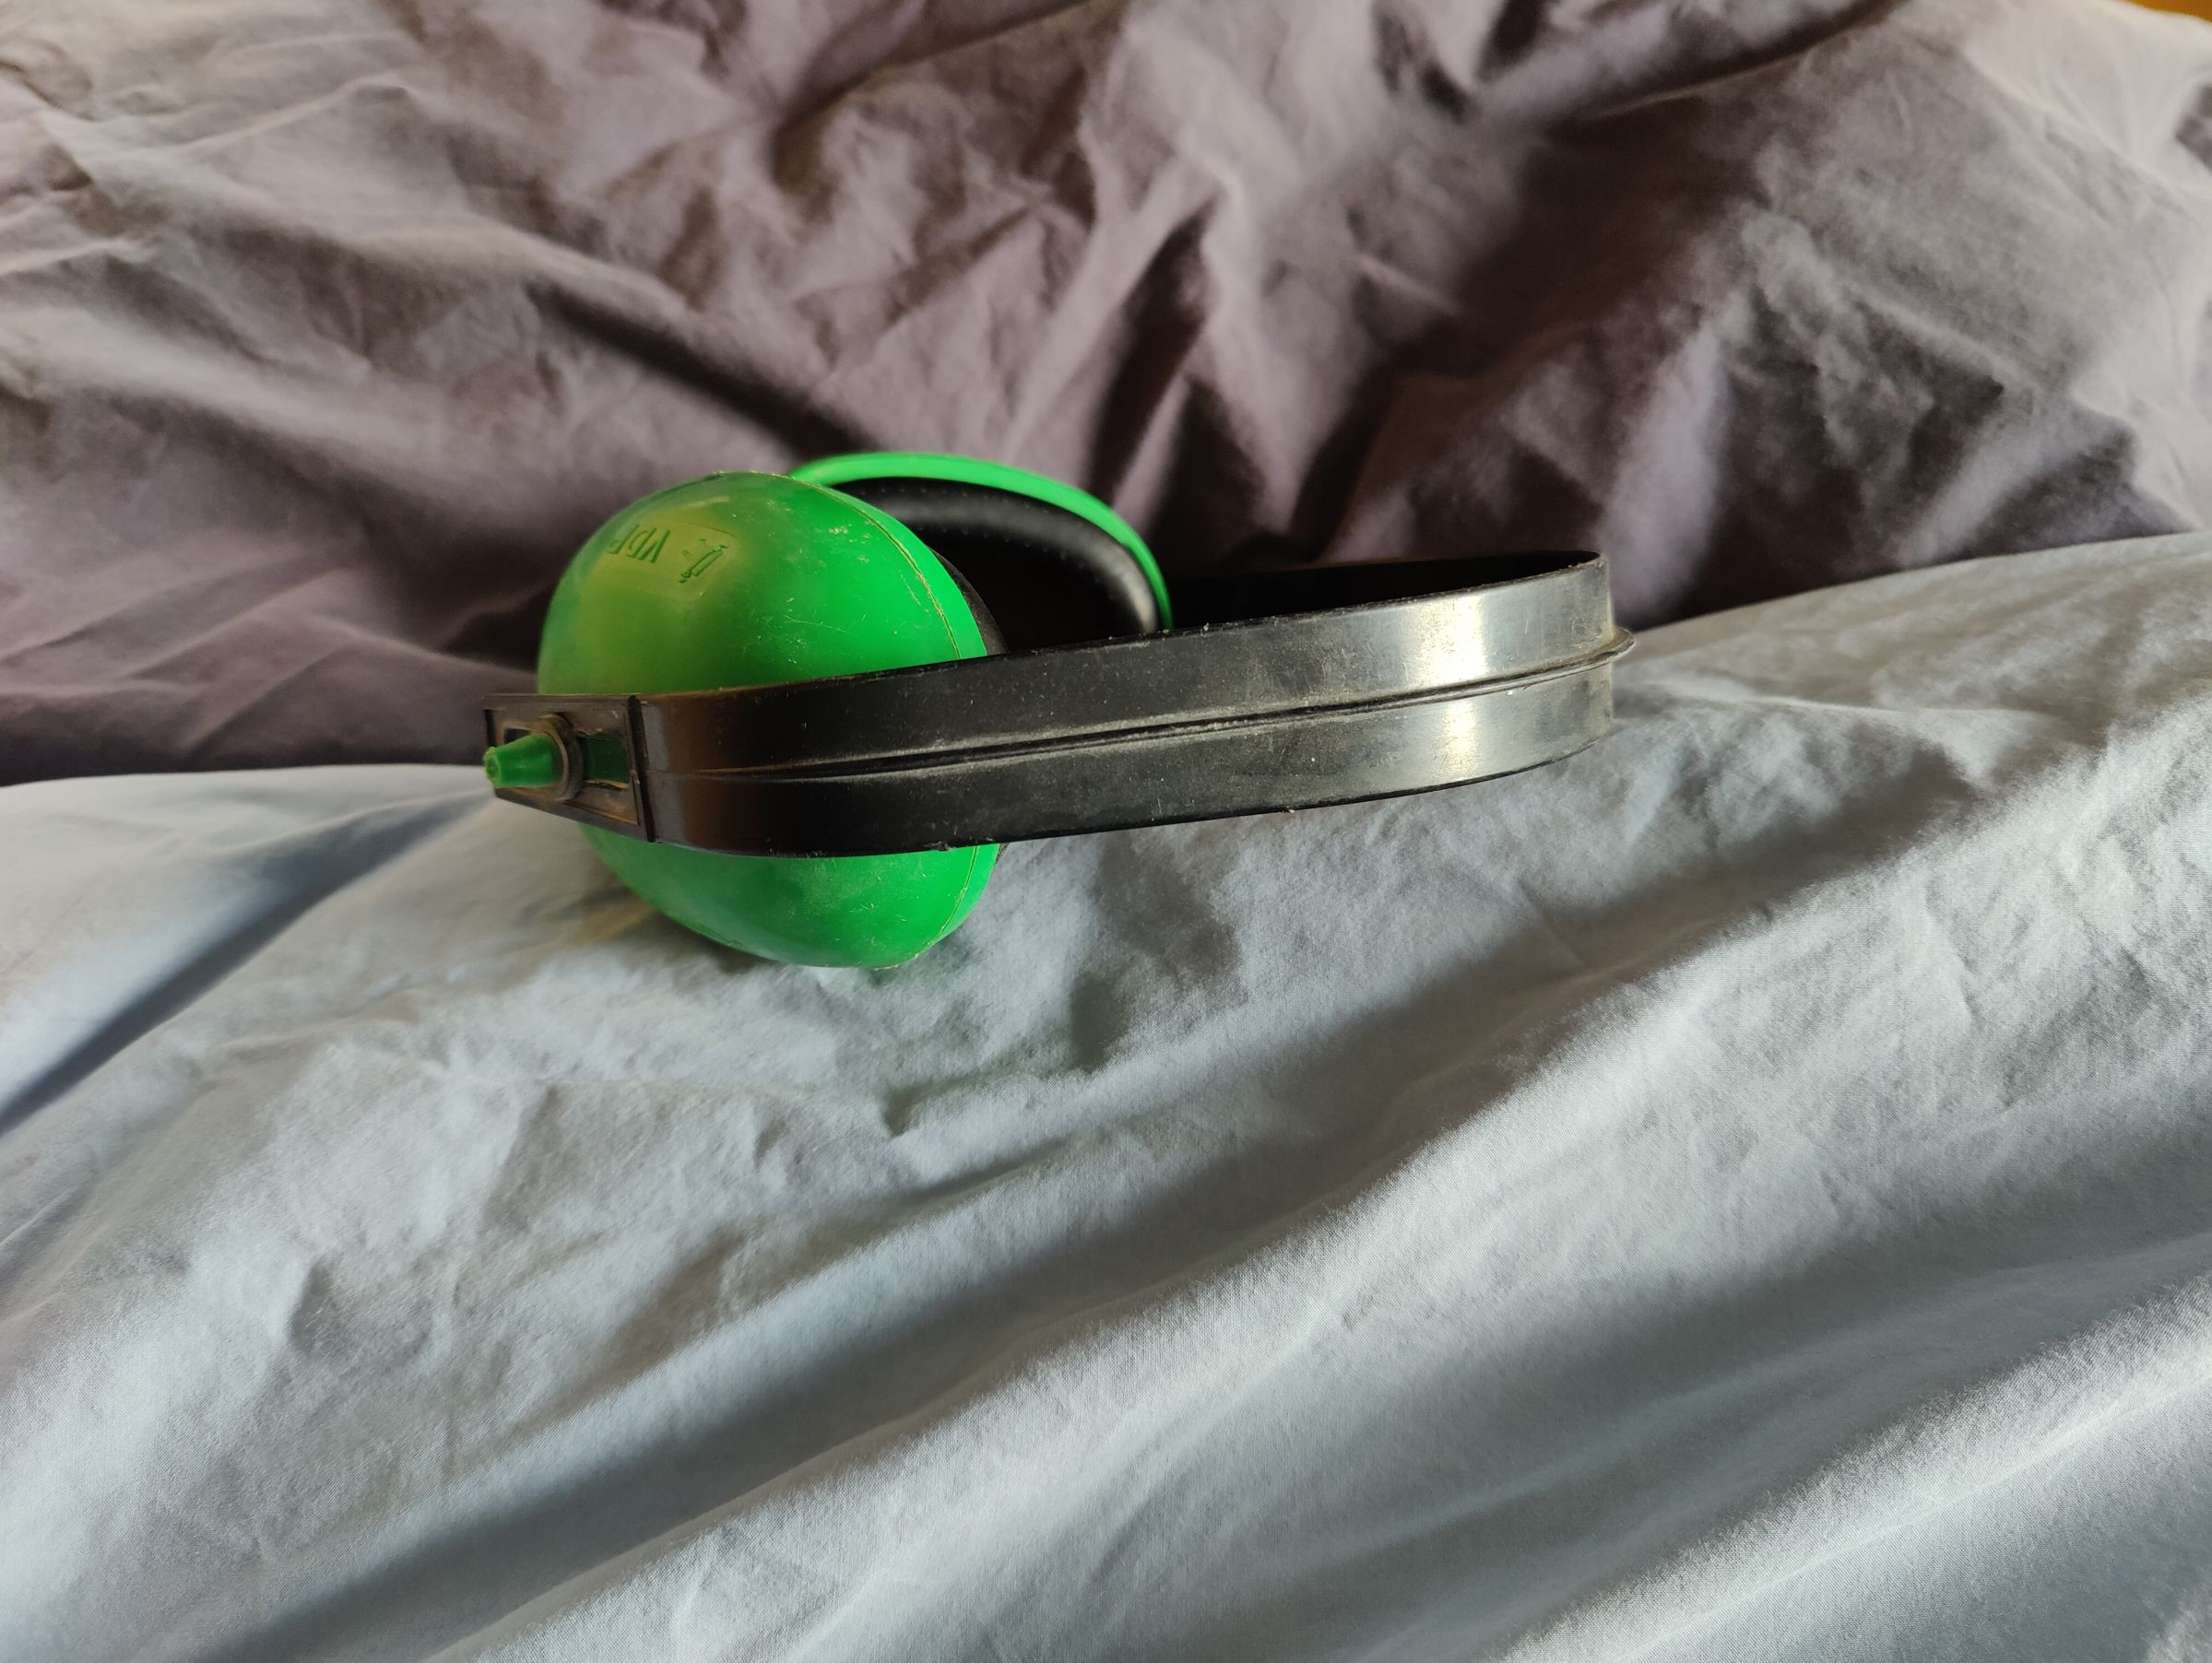headphones: (482, 447, 1620, 975)
